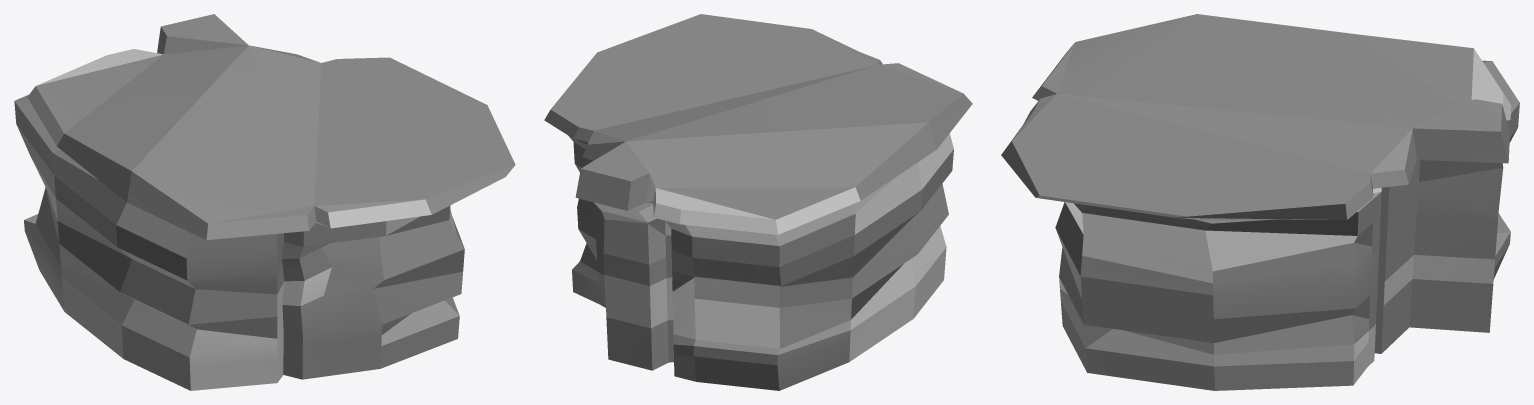
File: SpaceRock6.glb
3 views of the same model, side by side, from view 1: azimuth 30°, elevation 25°; view 2: azimuth 150°, elevation 25°; view 3: azimuth 270°, elevation 25° (orthographic). The views are drawn at different scales.
Parts seen in each view (by area): view 1: cliff_6; view 2: cliff_6; view 3: cliff_6.
Boxes of the visible parts, x1,y1,x2,y2 form: cliff_6: [14, 14, 515, 390]; cliff_6: [544, 14, 972, 390]; cliff_6: [1001, 14, 1519, 390].
Size of the model in its own units: 33.52 by 17.8 by 38.95.
Materials: 1 (1 with a texture image).
